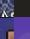anvil: (14, 0, 30, 17)
cobwebI: (0, 0, 14, 17)
